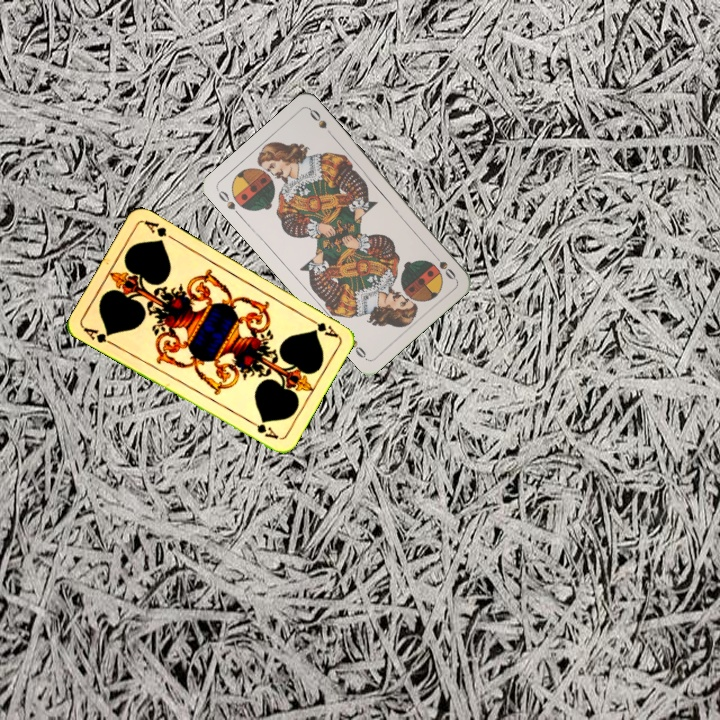GA: (303, 313, 341, 340), (79, 323, 118, 348)
SO: (428, 248, 458, 283), (214, 186, 244, 220)
